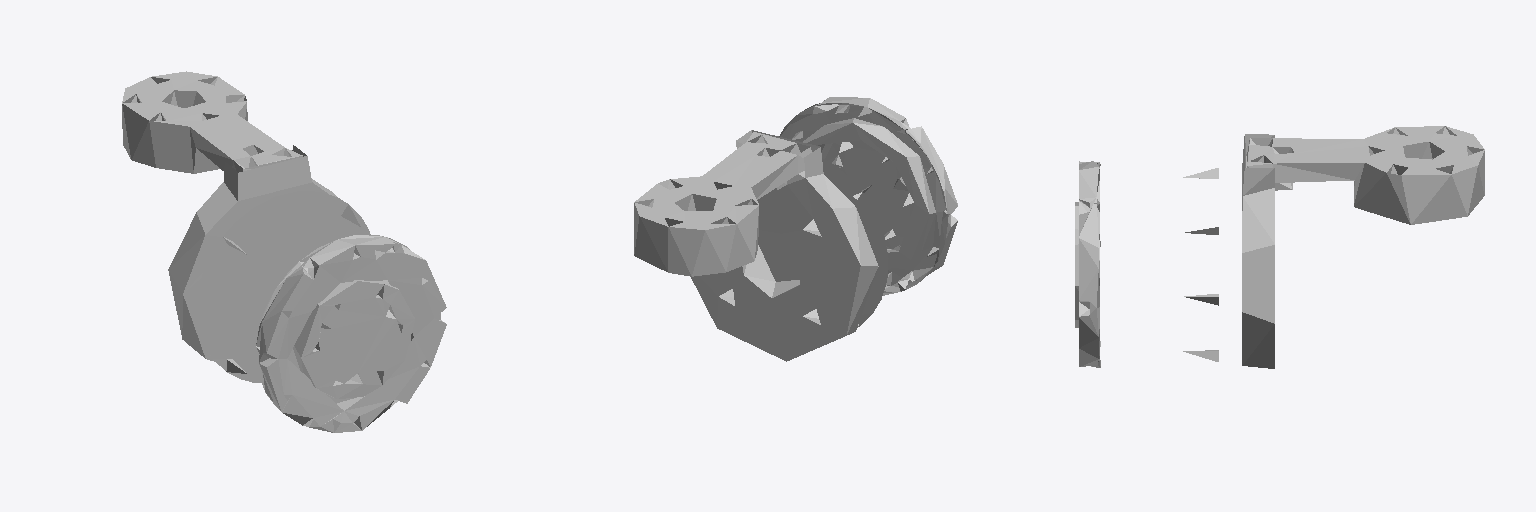
3 renders of one model, left to right at view 1: azimuth 30°, elevation 25°; view 2: azimuth 150°, elevation 25°; view 3: azimuth 270°, elevation 25°, orthographic.
Visible parts, largest first — view 1: link7_0; view 2: link7_0; view 3: link7_0.
Boxes of the visible parts, box(x1,y1,x2,y2) form: link7_0: box(122, 71, 446, 432); link7_0: box(634, 97, 957, 361); link7_0: box(1075, 126, 1484, 368).
Size of the model in its own units: 58.32 by 63.7 by 113.